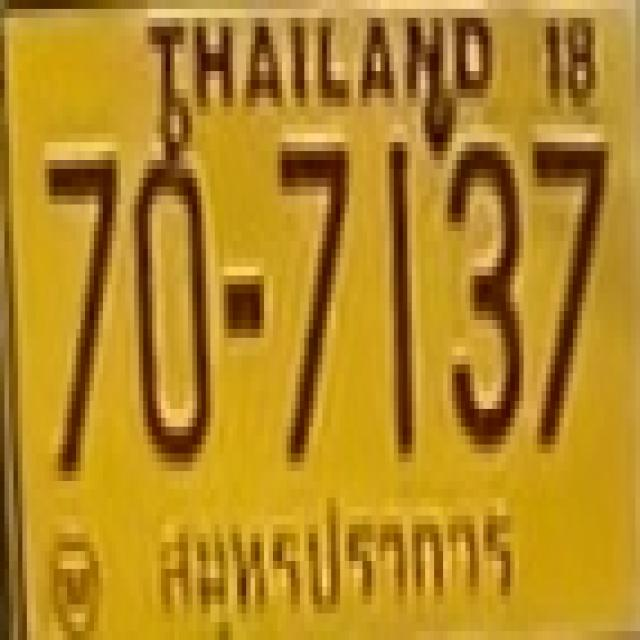0: (130, 146, 206, 458)
1: (387, 142, 410, 454), (385, 134, 407, 454)
3: (443, 133, 519, 444)
7: (528, 133, 604, 444), (273, 134, 345, 454), (43, 151, 114, 471)
SPK: (148, 502, 517, 627)
